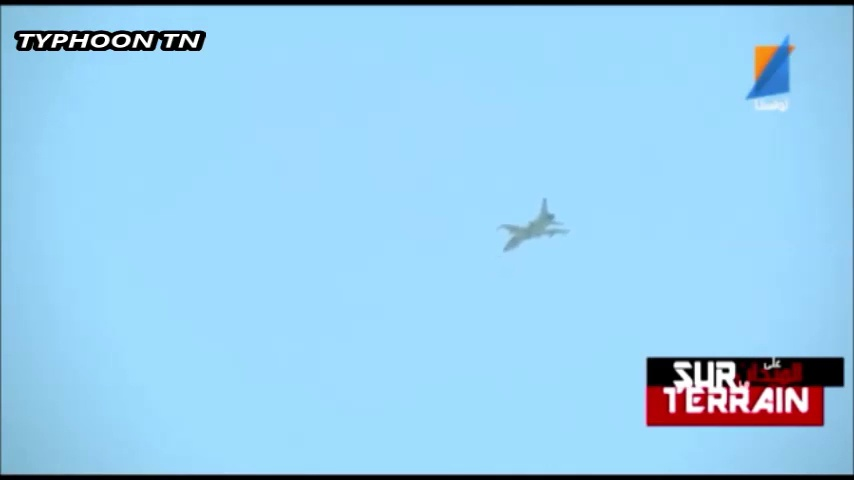Airplane: (496, 197, 575, 255)
